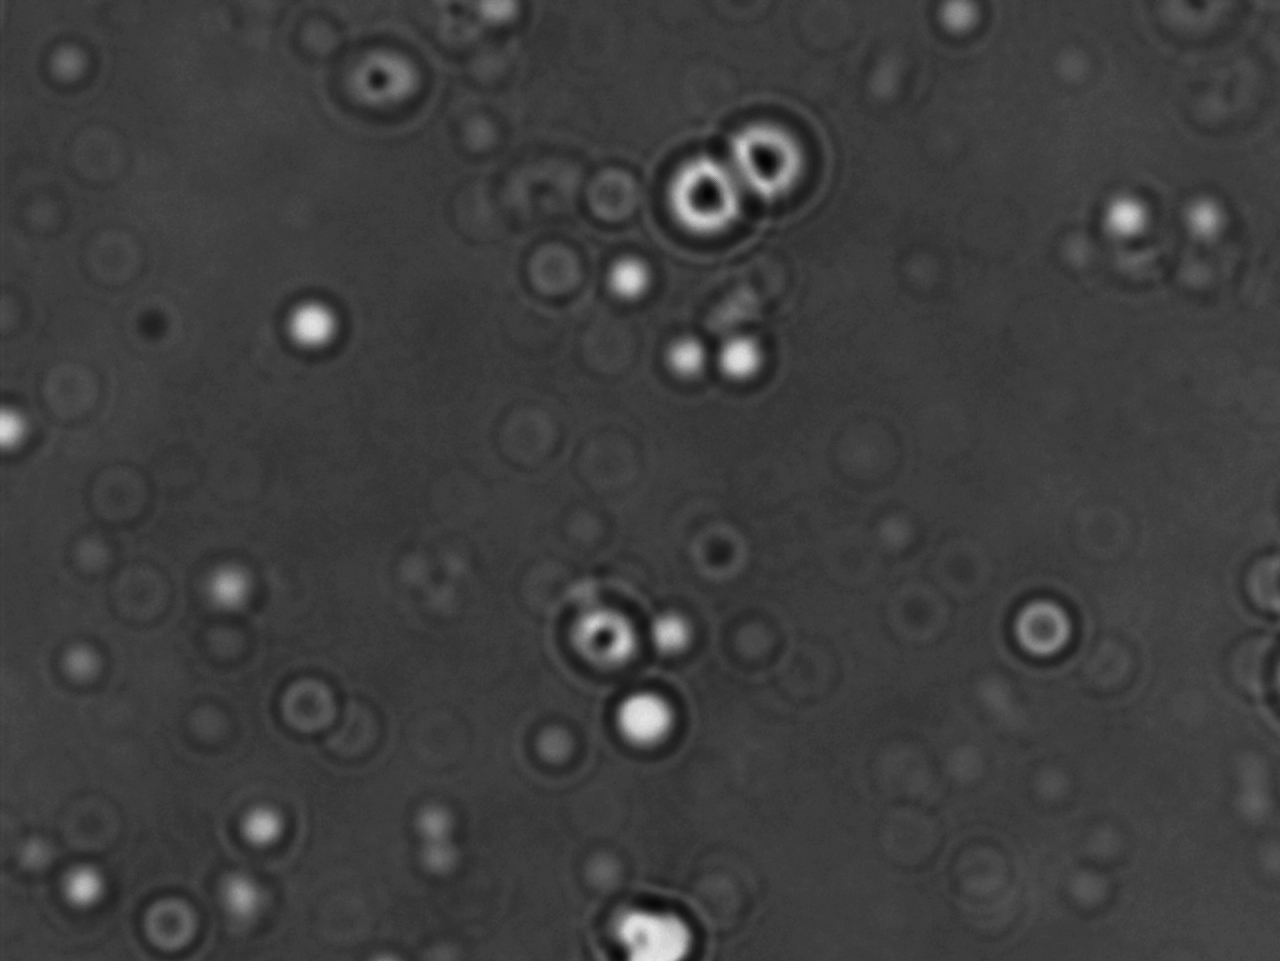depth:16: (639, 131, 767, 256), (716, 105, 833, 221)
